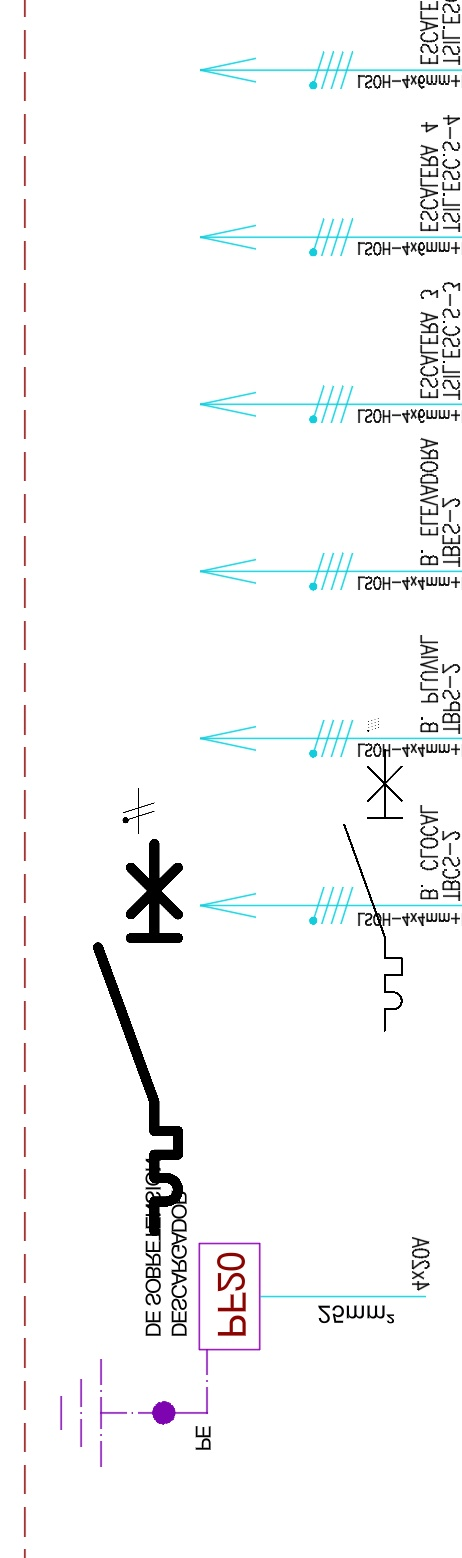interruptor_termomagnetico: (88, 834, 188, 1241), (337, 742, 409, 1038)
